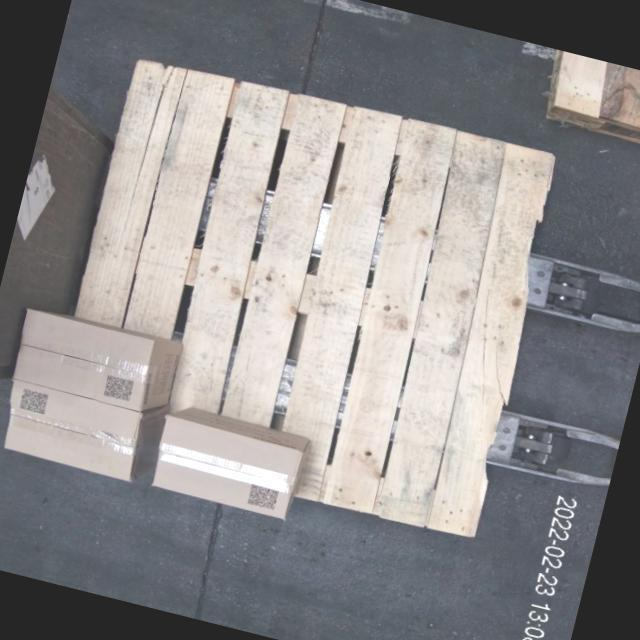box: (151, 416, 303, 520), (11, 308, 157, 409), (0, 378, 146, 478)
